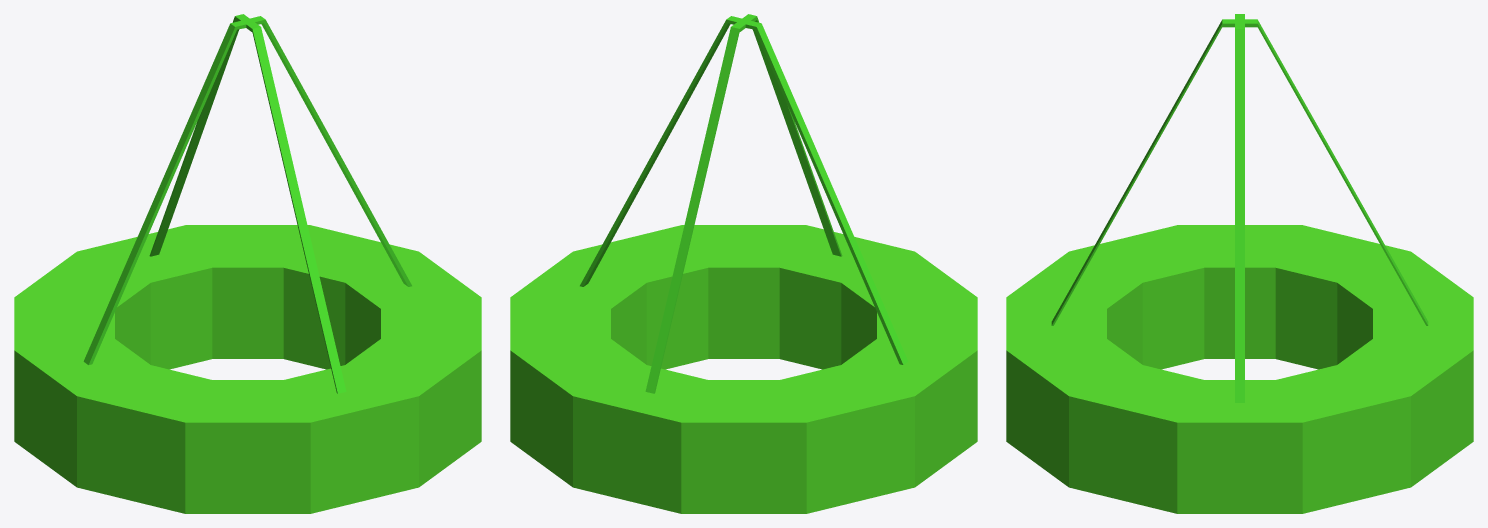
File: Lamp_11_C.fbx
3 views of the same model, side by side, from view 1: azimuth 30°, elevation 25°; view 2: azimuth 150°, elevation 25°; view 3: azimuth 270°, elevation 25° (orthographic).
Visible parts, largest first — view 1: Lamp_11_C, Lamp_11_C_Support; view 2: Lamp_11_C, Lamp_11_C_Support; view 3: Lamp_11_C, Lamp_11_C_Support.
Boxes of the visible parts, x1,y1,x2,y2 form: Lamp_11_C: (14, 225, 481, 513); Lamp_11_C_Support: (83, 14, 411, 393); Lamp_11_C: (510, 225, 977, 513); Lamp_11_C_Support: (580, 14, 908, 393); Lamp_11_C: (1006, 225, 1473, 513); Lamp_11_C_Support: (1051, 14, 1428, 402).
Bounding box in the file's own units: 88.32 × 82.11 × 88.32.
